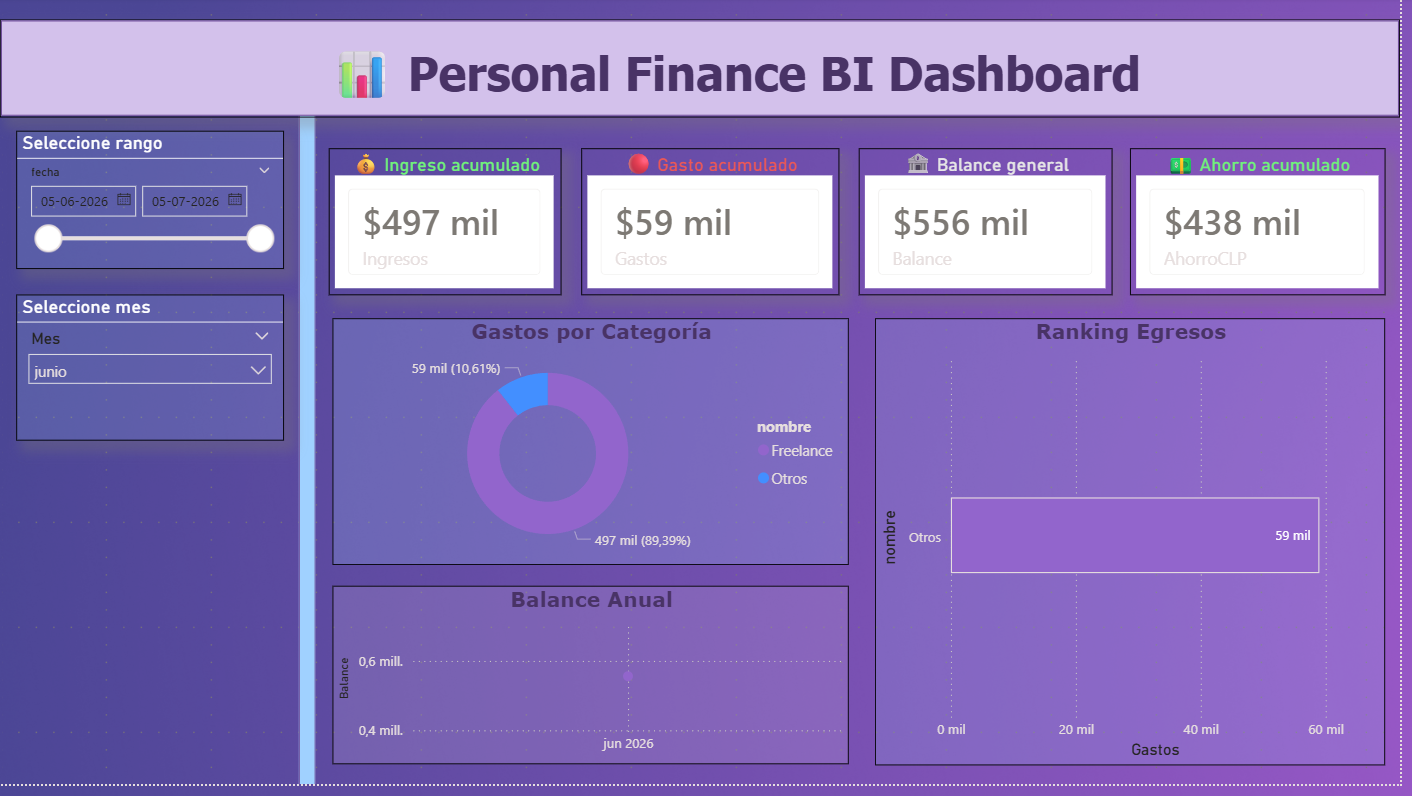

Layout of this report page (visuals, bound fields, positions):
{"tool":"powerbi","page":{"name":"Página 1","canvas":[1280,720],"ordinal":0},"visuals":[{"type":"cardVisual","title":"💰 Ingreso acumulado","fields":{"Data":["movimientos.Ingresos"]},"box":[300.8,138.2,212.8,134.5],"z":0},{"type":"cardVisual","title":"🏦 Balance general","fields":{"Data":["movimientos.Balance","select","select1","select2"]},"box":[785.6,137.8,232.2,134.4],"z":1000},{"type":"cardVisual","title":"🔴 Gasto acumulado","fields":{"Data":["movimientos.Gastos"]},"box":[531.9,138.2,236,134.5],"z":2000},{"type":"shape","box":[273.5,39.5,15.5,681],"z":4000},{"type":"shape","box":[0,20.8,1280.3,89.3],"z":5000},{"type":"textbox","box":[245.8,34.2,853.5,67.3],"z":6000},{"type":"lineChart","title":"Balance Anual","fields":{"Y":["movimientos.Balance"],"Category":["movimientos.fecha.Variación.Jerarquía de fechas.Año","movimientos.fecha.Variación.Jerarquía de fechas.Mes"]},"box":[304.6,538.6,472.4,163.6],"z":7000},{"type":"donutChart","title":"Gastos por Categoría","fields":{"Category":["categorias.nombre"],"Y":["movimientos.Total"]},"box":[304.6,293.3,472.4,225.6],"z":8000},{"type":"clusteredBarChart","title":"Ranking Egresos","fields":{"Y":["movimientos.Gastos"],"Category":["categorias.nombre"]},"box":[799.5,293.3,466.7,408.9],"z":9000},{"type":"slicer","title":"Seleccione rango","fields":{"Values":["movimientos.fecha"]},"box":[14.5,122.5,244.9,126.4],"z":10000},{"type":"slicer","title":"Seleccione mes","fields":{"Values":["movimientos.fecha.Variación.Jerarquía de fechas.Mes"]},"box":[14.4,272.2,244.4,133.3],"z":11000},{"type":"cardVisual","title":"💵 Ahorro acumulado","fields":{"Data":["movimientos.AhorroCLP"]},"box":[1033.3,138.2,233.6,134.5],"z":12001}]}

Visuals, with their boxes in screenshot pixels (x1, y1, x2, y2), scaled from the page's 1280x720 canvas onto the 1412x796 screenshot:
"💰 Ingreso acumulado" cardVisual: bbox(332, 153, 567, 301)
"🏦 Balance general" cardVisual: bbox(867, 152, 1123, 301)
"🔴 Gasto acumulado" cardVisual: bbox(587, 153, 847, 301)
shape: bbox(302, 44, 319, 795)
shape: bbox(0, 23, 1411, 122)
textbox: bbox(271, 38, 1213, 112)
"Balance Anual" lineChart: bbox(336, 595, 857, 776)
"Gastos por Categoría" donutChart: bbox(336, 324, 857, 574)
"Ranking Egresos" clusteredBarChart: bbox(882, 324, 1397, 776)
"Seleccione rango" slicer: bbox(16, 135, 286, 275)
"Seleccione mes" slicer: bbox(16, 301, 285, 448)
"💵 Ahorro acumulado" cardVisual: bbox(1140, 153, 1398, 301)
